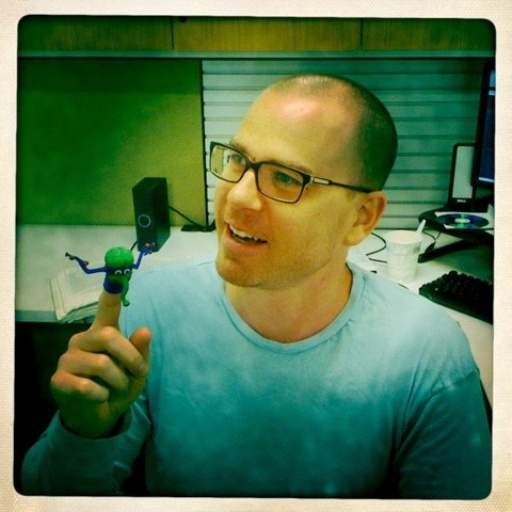hand: (19, 246, 153, 492)
